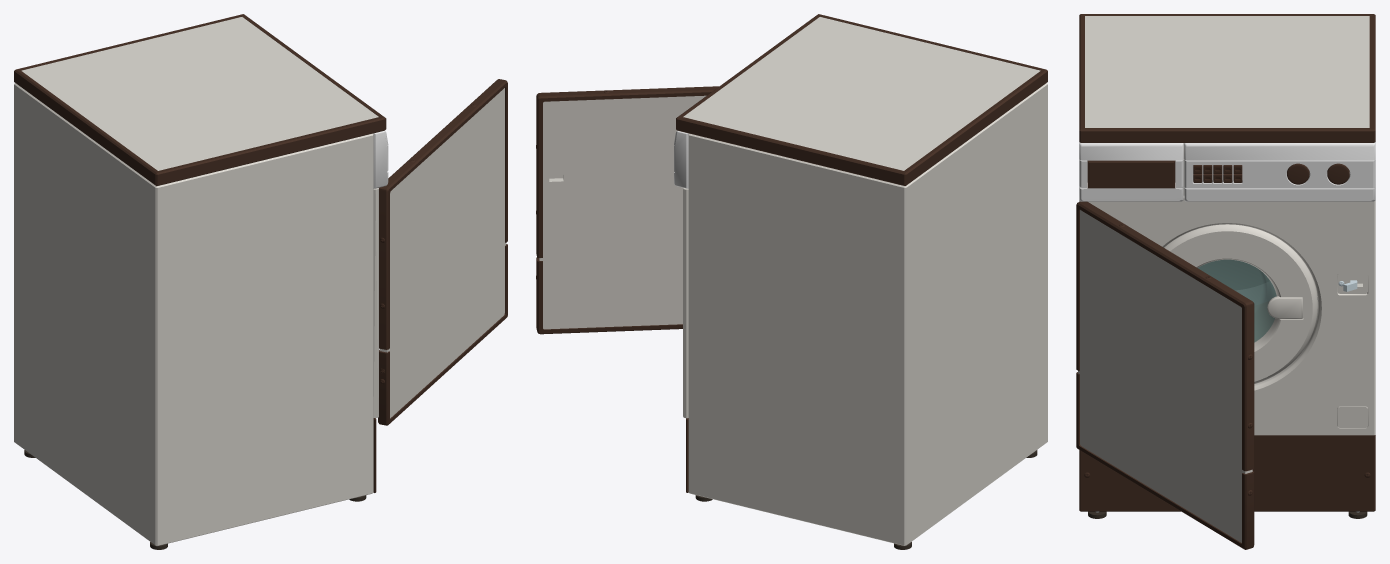
File: uploads_files_983866_0004.FBX
3 renders of one model, left to right at view 1: azimuth 30°, elevation 25°; view 2: azimuth 150°, elevation 25°; view 3: azimuth 270°, elevation 25°, orthographic. The views are drawn at different scales.
Parts seen in each view (by area): view 1: WAMAbody, WAMAdoor, WAMAbo01, WAMAdo01, WAMAfr01; view 2: WAMAbody, WAMAdoor, WAMAbo01, WAMAdo01, WAMAfr02; view 3: WAMAbody, WAMAdoor, WAMAbo02, WAMAbo01 (×2), WAMAdo02, WAMAdo01, WAMAfr02, WAMAgla2, WAMAgla1, WAMAfr01, WAMAgla3, WAMAdr02 (+5 smaller).
Boxes of the visible parts, <box> form: WAMAbody: <box>14,17,378,545</box>; WAMAdoor: <box>379,88,506,418</box>; WAMAbo01: <box>14,14,386,185</box>; WAMAdo01: <box>378,79,507,425</box>; WAMAfr01: <box>373,131,388,188</box>; WAMAbody: <box>683,17,1047,545</box>; WAMAdoor: <box>539,95,706,329</box>; WAMAbo01: <box>676,14,1047,185</box>; WAMAdo01: <box>536,86,718,334</box>; WAMAfr02: <box>674,131,688,188</box>; WAMAbody: <box>1079,16,1375,435</box>; WAMAdoor: <box>1078,210,1252,542</box>; WAMAbo02: <box>1079,435,1375,511</box>; WAMAbo01 (×2): <box>1079,14,1375,188</box>; WAMAdo02: <box>1164,224,1317,383</box>; WAMAdo01: <box>1076,201,1254,549</box>; WAMAfr02: <box>1184,142,1375,201</box>; WAMAgla2: <box>1184,143,1375,160</box>; WAMAgla1: <box>1198,259,1276,342</box>; WAMAfr01: <box>1079,142,1183,201</box>; WAMAgla3: <box>1079,143,1183,160</box>; WAMAdr02: <box>1198,260,1276,304</box>.
Size of the model in its own units: 4967 by 4194 by 2877.
